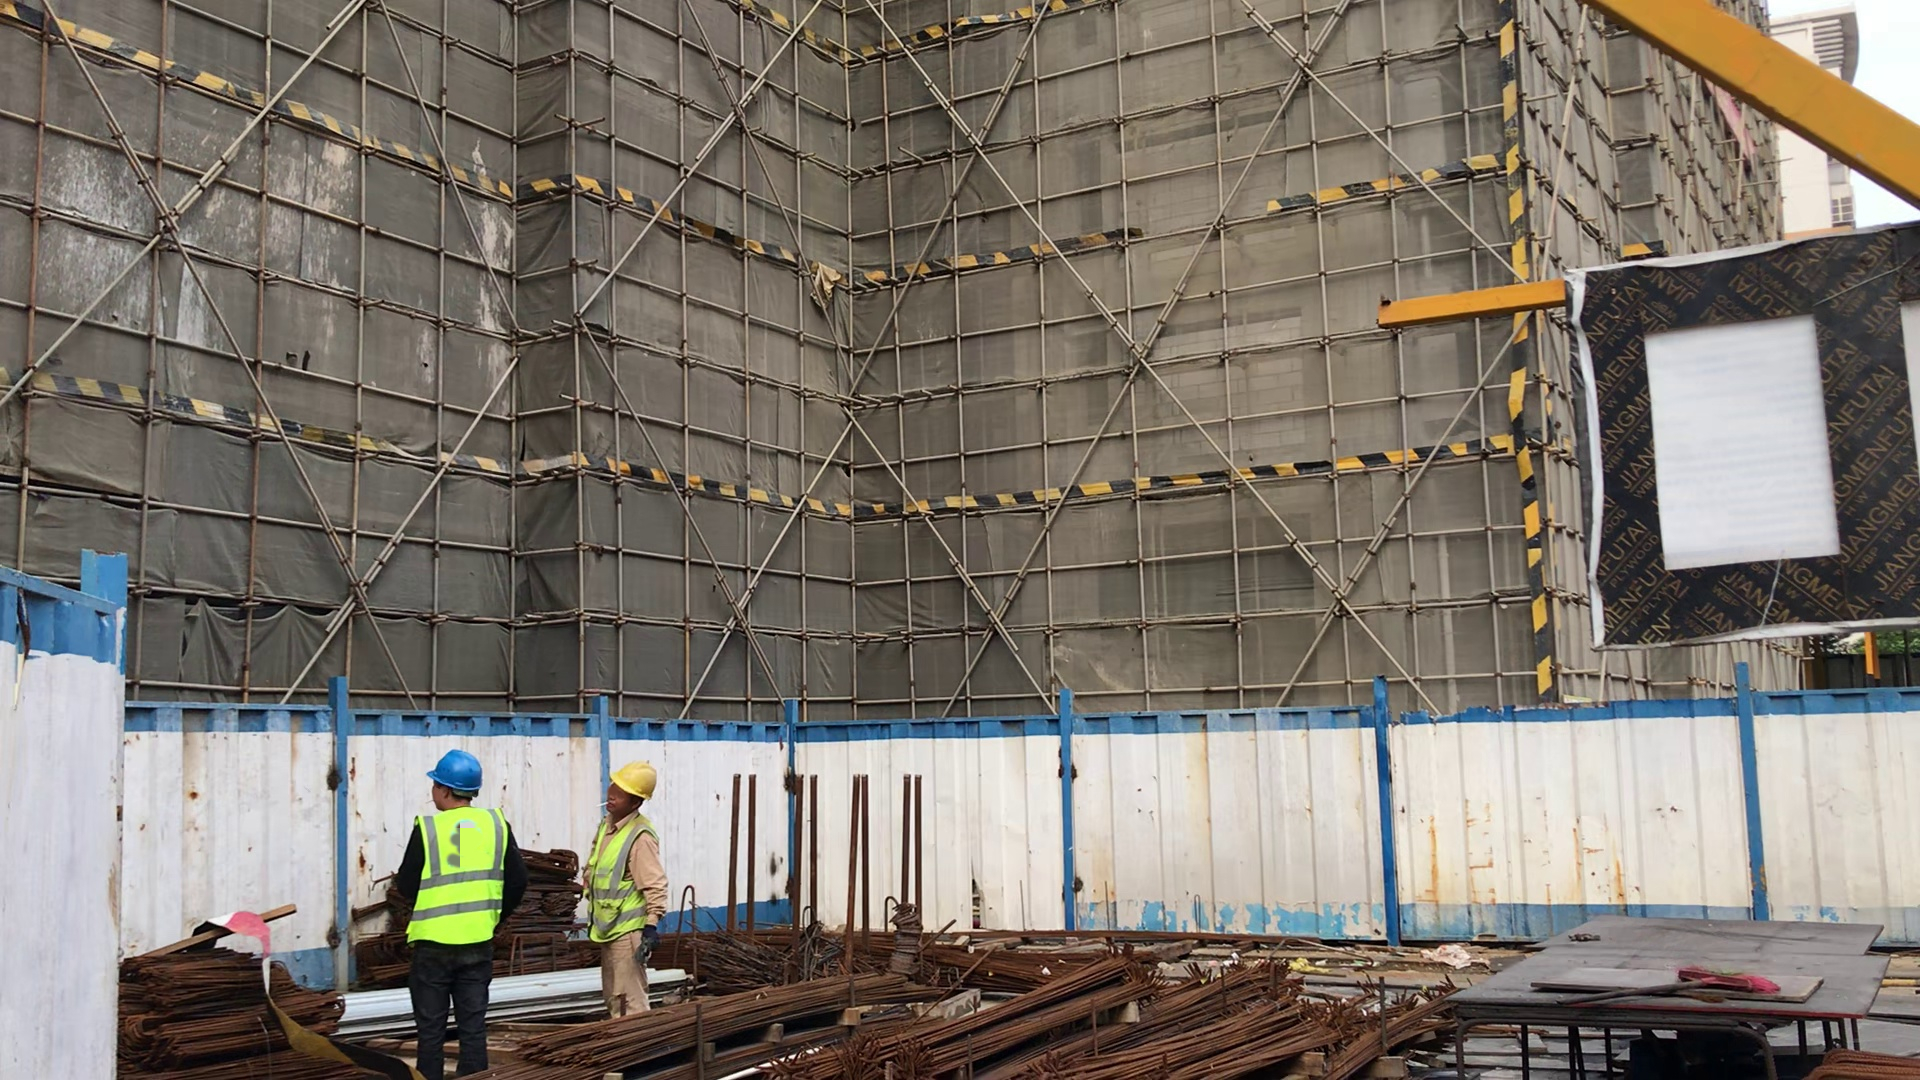helmet: (604, 750, 662, 801), (429, 746, 484, 793)
person: (377, 748, 528, 1074), (574, 758, 693, 1022)
